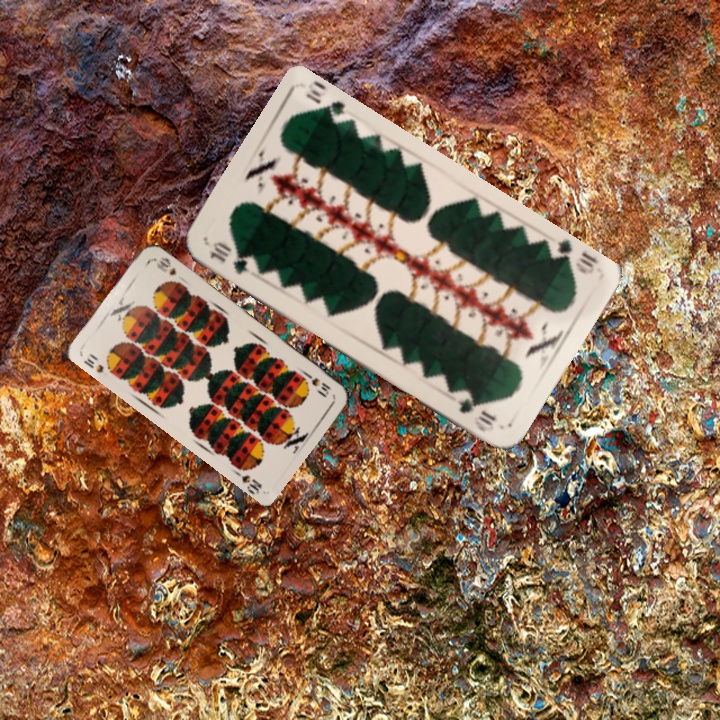G10: (544, 236, 601, 277), (204, 237, 252, 278)
S10: (301, 368, 333, 398), (79, 354, 107, 376)
